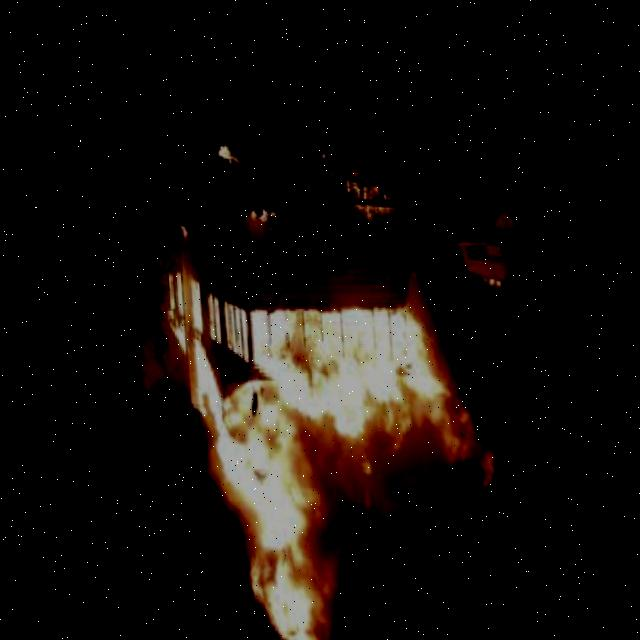Fire: (179, 283, 475, 640), (342, 161, 395, 219), (245, 196, 280, 232), (211, 130, 242, 169), (473, 258, 506, 288)
